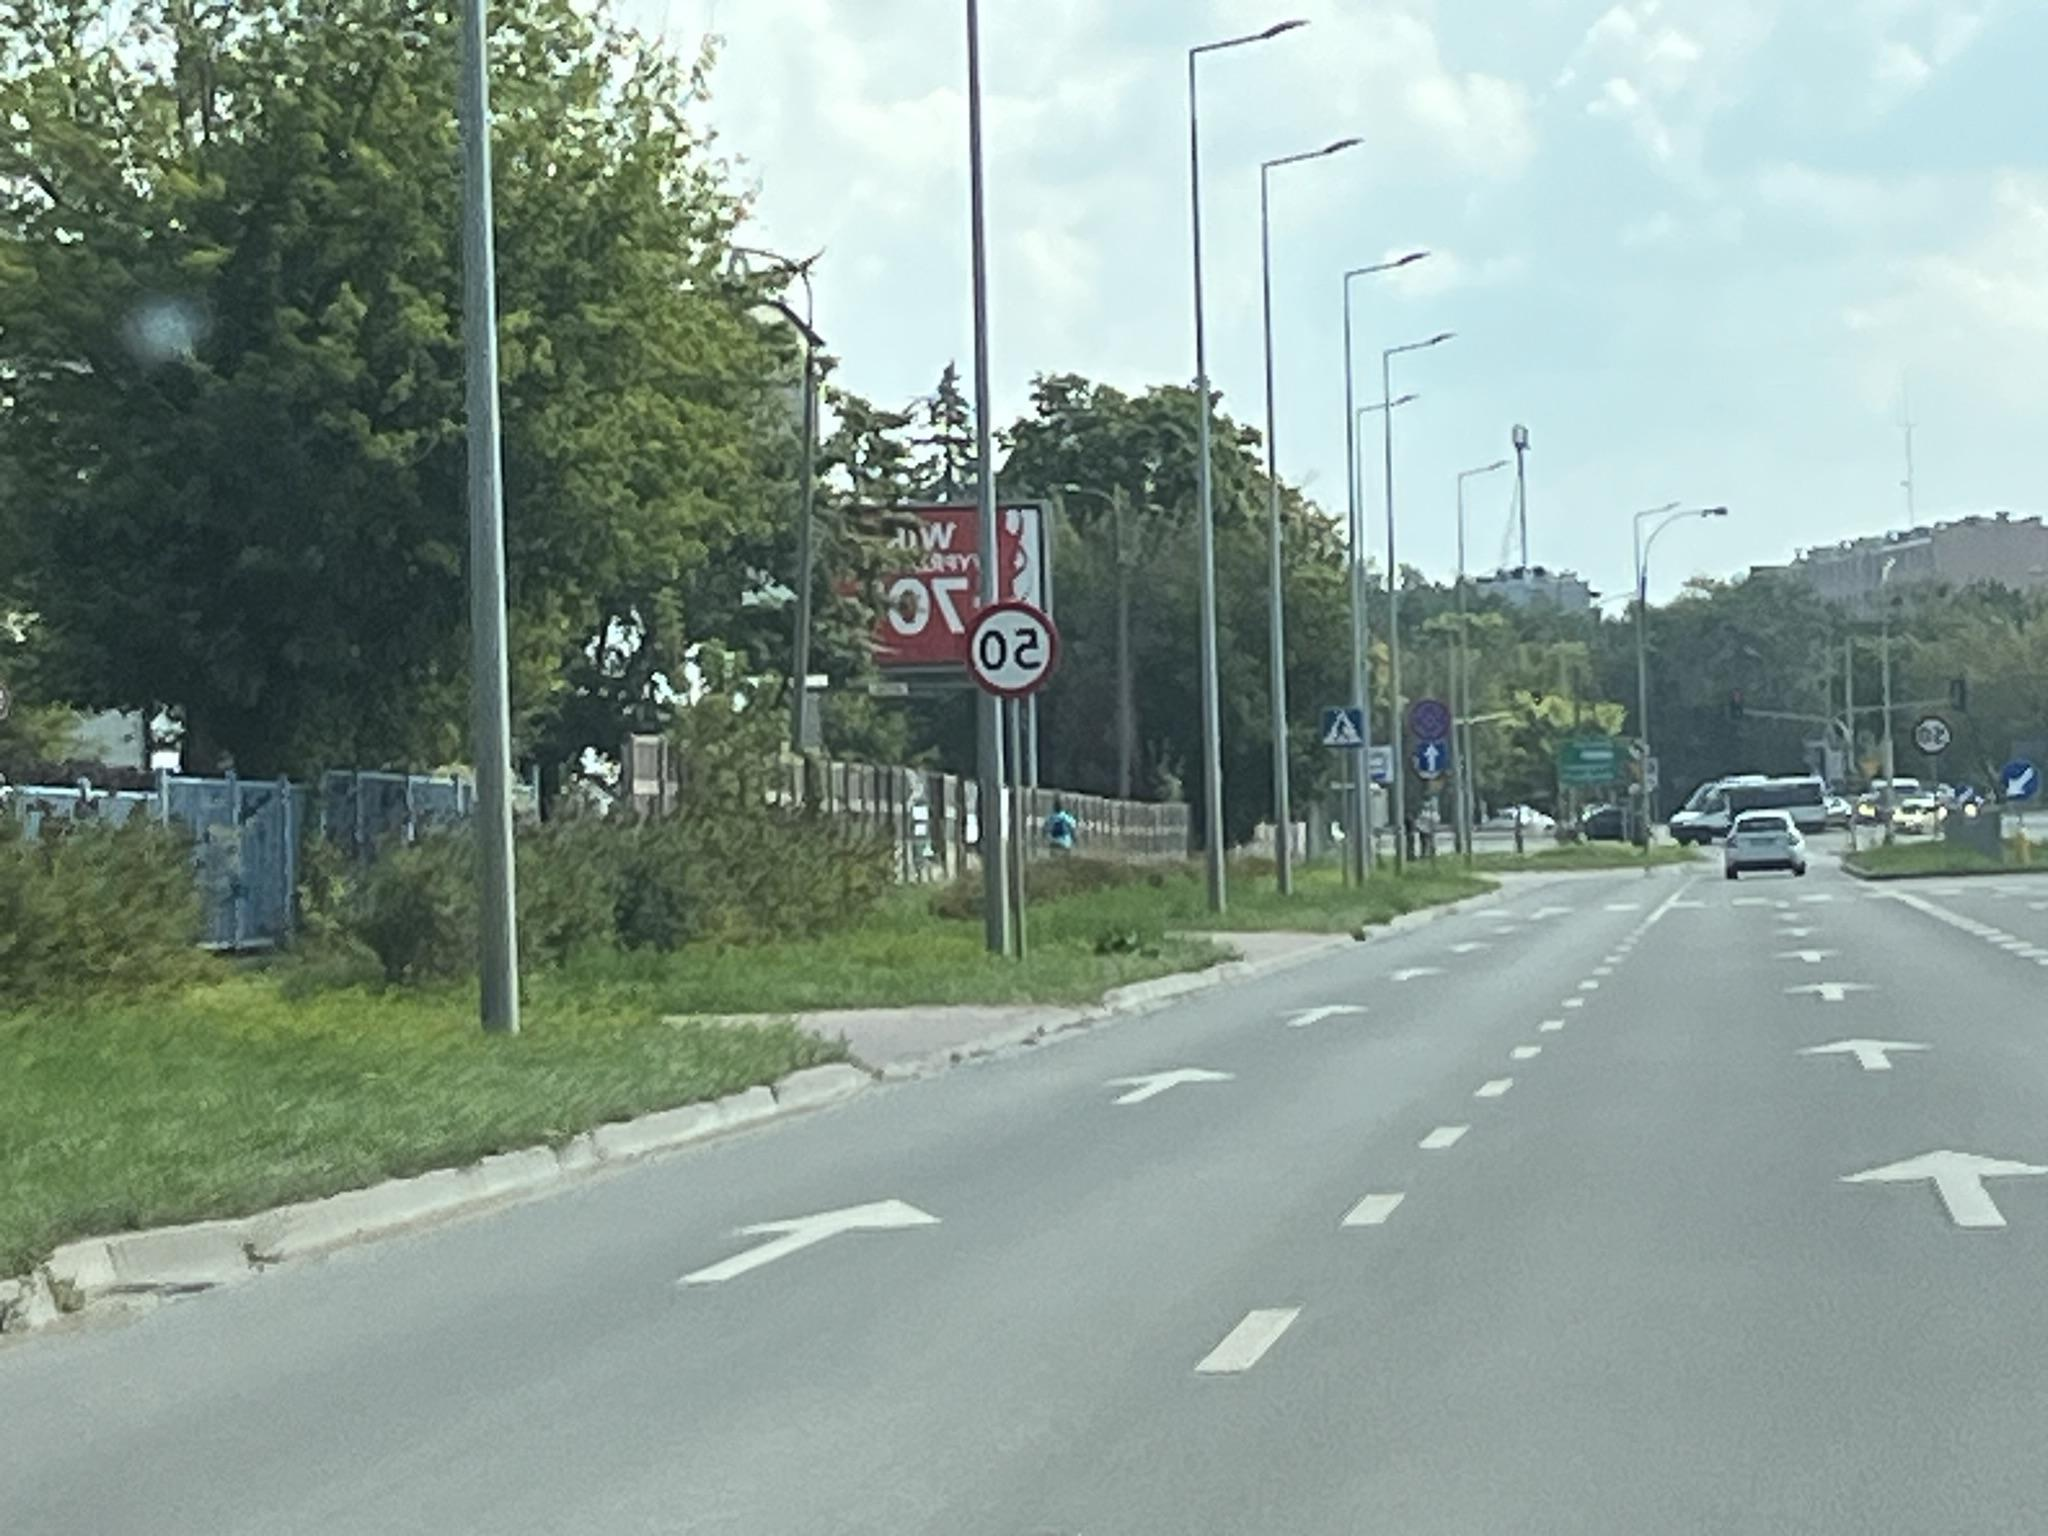direction-city: (1556, 742, 1627, 783)
information: (1322, 708, 1364, 745), (1417, 742, 1447, 770)
prohibitory: (964, 600, 1061, 699), (1909, 715, 1954, 757), (1409, 700, 1451, 741)
